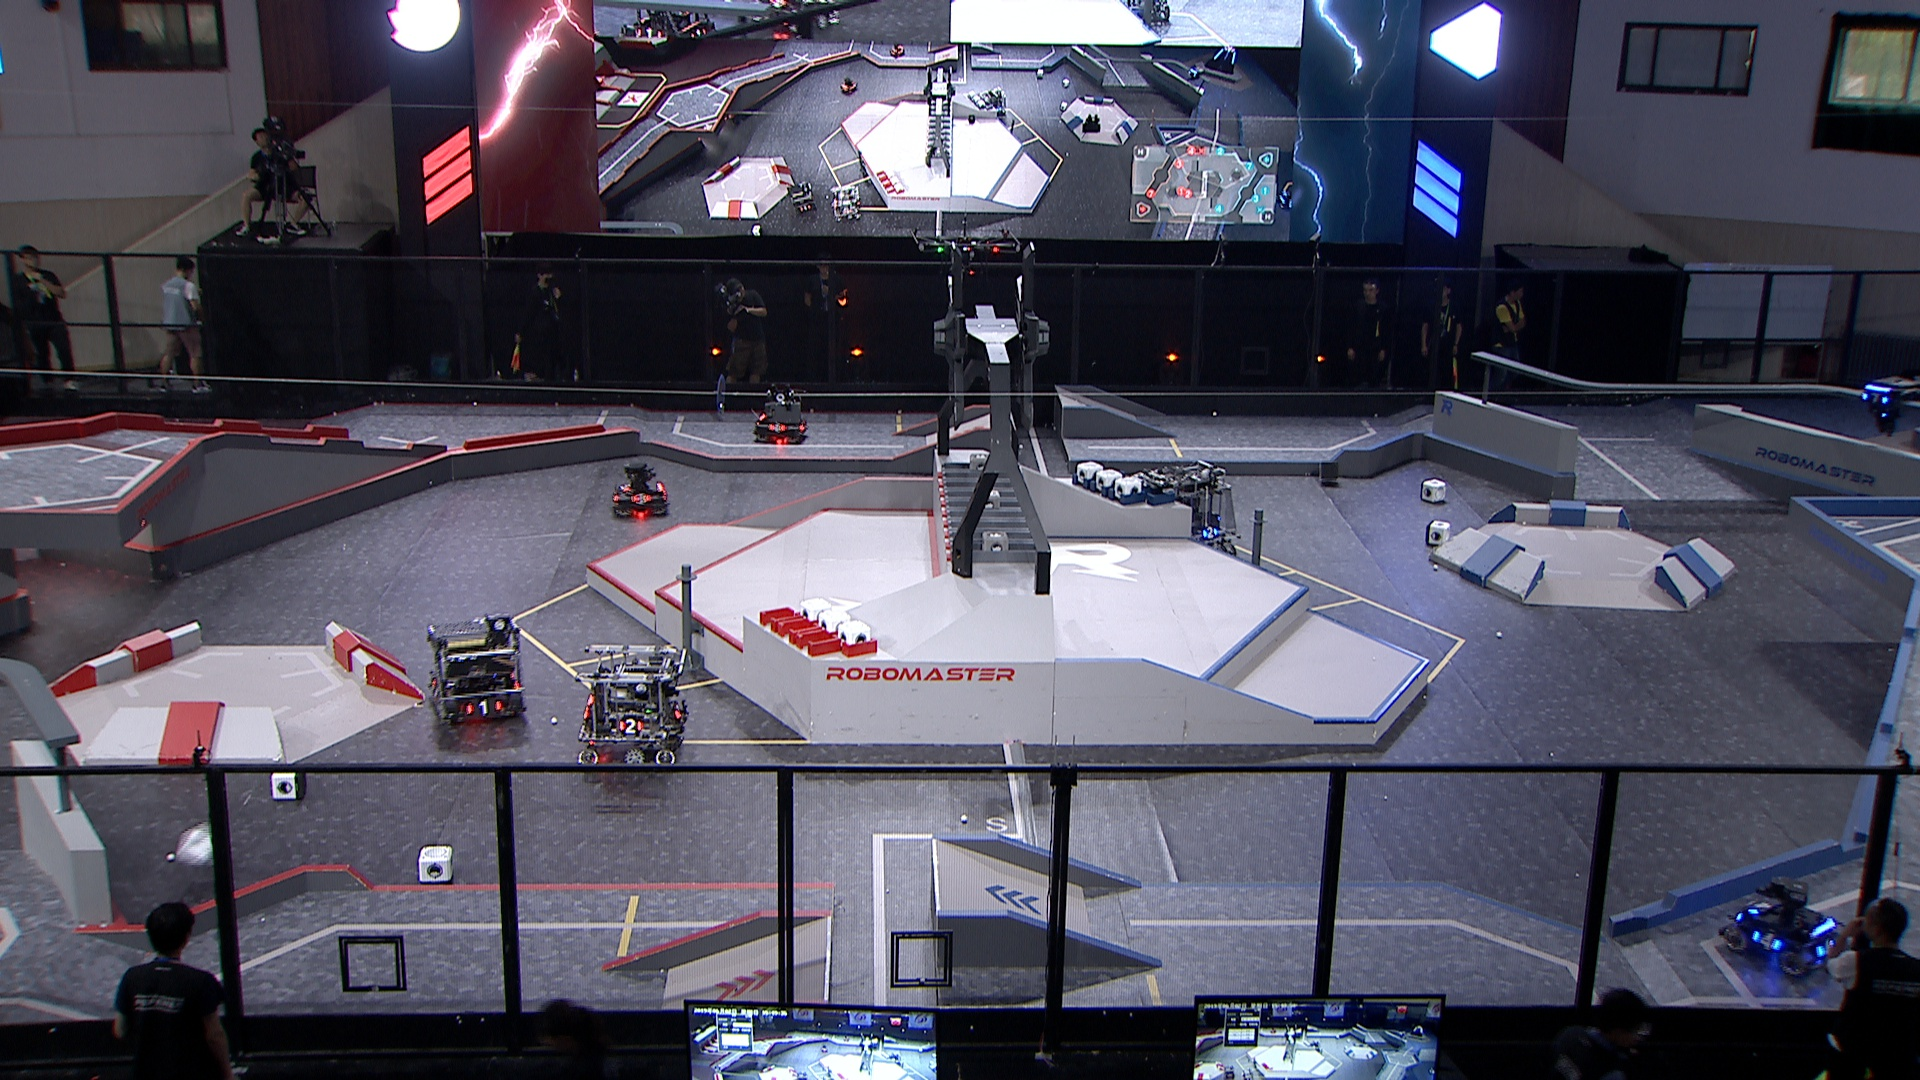armor: (1750, 928, 1782, 953), (465, 699, 504, 717), (615, 716, 645, 736), (1816, 939, 1840, 960), (1859, 392, 1890, 406), (1746, 899, 1774, 915), (1201, 524, 1221, 541), (629, 491, 651, 505), (429, 678, 443, 698), (765, 422, 789, 434)
car: (574, 641, 698, 767), (419, 612, 531, 731), (1718, 877, 1844, 978), (1133, 460, 1242, 564), (609, 460, 673, 516), (752, 390, 808, 443)
ignore: (615, 3, 717, 51), (1203, 44, 1242, 76), (829, 185, 862, 223), (785, 178, 818, 214), (978, 87, 1010, 120), (839, 74, 858, 94), (887, 40, 907, 58), (1185, 63, 1207, 80)
watcher: (1851, 376, 1920, 439)
